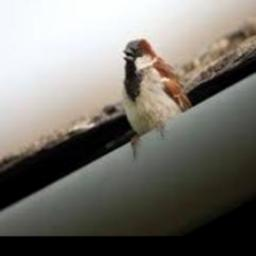Sparrow: (121, 39, 193, 153)
